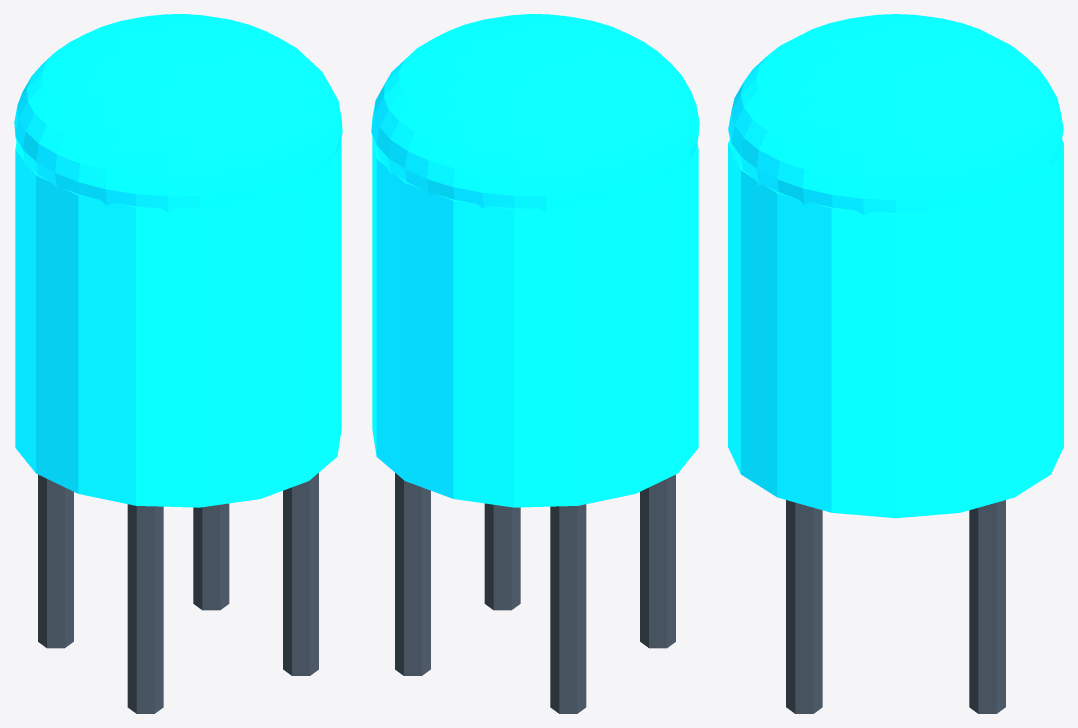
Rendered from bldg_water.glb.
3 renders of one model, left to right at view 1: azimuth 30°, elevation 25°; view 2: azimuth 150°, elevation 25°; view 3: azimuth 270°, elevation 25°, orthographic. The views are drawn at different scales.
Parts seen in each view (by area): view 1: pulse, Dome, Leg, Leg.001, Leg.002, Leg.003; view 2: pulse, Dome, Leg.002, Leg.003, Leg, Leg.001; view 3: pulse, Dome, Leg.001, Leg.003.
Part boxes in pixels (bbox=[...]): pulse: bbox=[15, 138, 341, 507]; Dome: bbox=[14, 14, 342, 212]; Leg: bbox=[127, 504, 163, 713]; Leg.001: bbox=[283, 473, 318, 675]; Leg.002: bbox=[38, 474, 73, 648]; Leg.003: bbox=[193, 503, 229, 610]; pulse: bbox=[372, 138, 698, 507]; Dome: bbox=[371, 14, 699, 212]; Leg.002: bbox=[550, 504, 586, 713]; Leg.003: bbox=[395, 473, 430, 675]; Leg: bbox=[640, 474, 675, 648]; Leg.001: bbox=[484, 503, 520, 610]; pulse: bbox=[728, 140, 1063, 518]; Dome: bbox=[728, 14, 1063, 214]; Leg.001: bbox=[786, 500, 822, 713]; Leg.003: bbox=[969, 500, 1005, 713].
Bounding box in the file's own units: 1.1 × 2.28 × 1.1.
